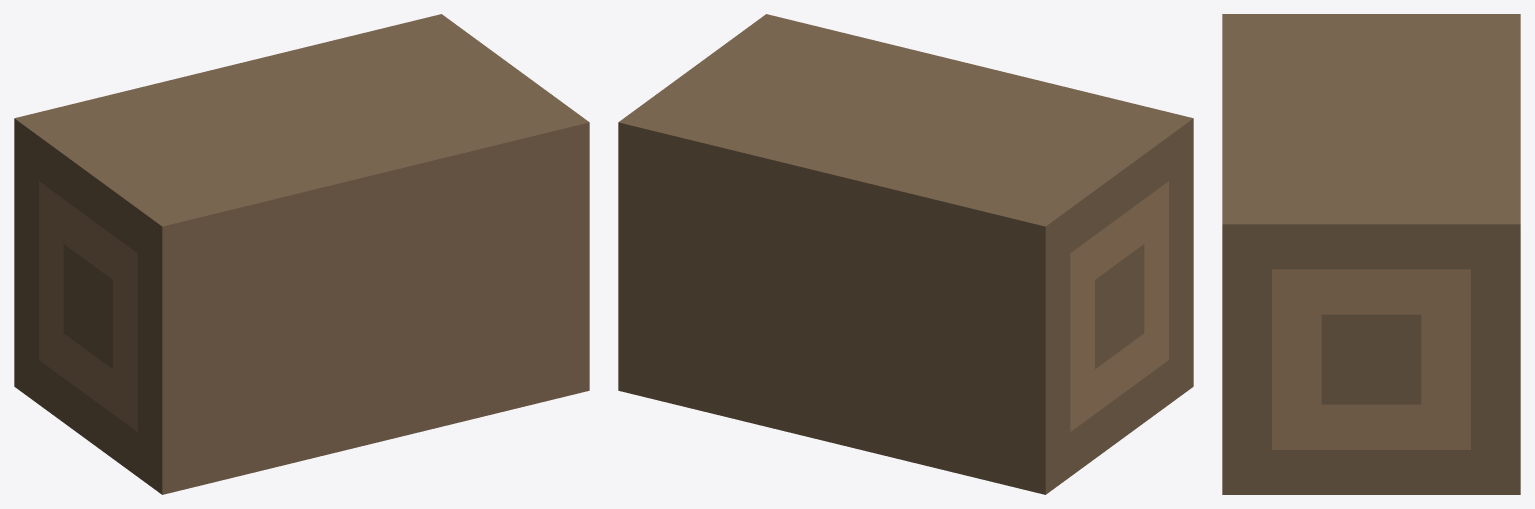
File: Item_WoodLog_01.obj
3 renders of one model, left to right at view 1: azimuth 30°, elevation 25°; view 2: azimuth 150°, elevation 25°; view 3: azimuth 270°, elevation 25°, orthographic.
Bounding box in the file's own units: 1 × 0.6 × 0.6.
1 material, 1 textured.
